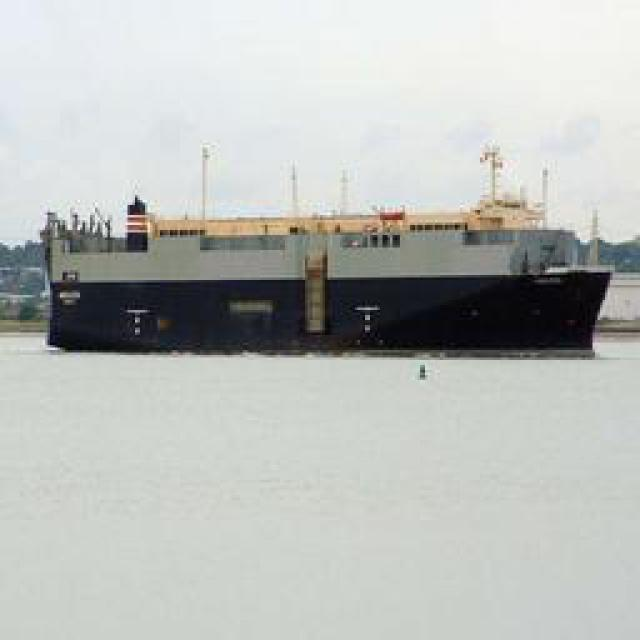Ship: (38, 157, 613, 357)
